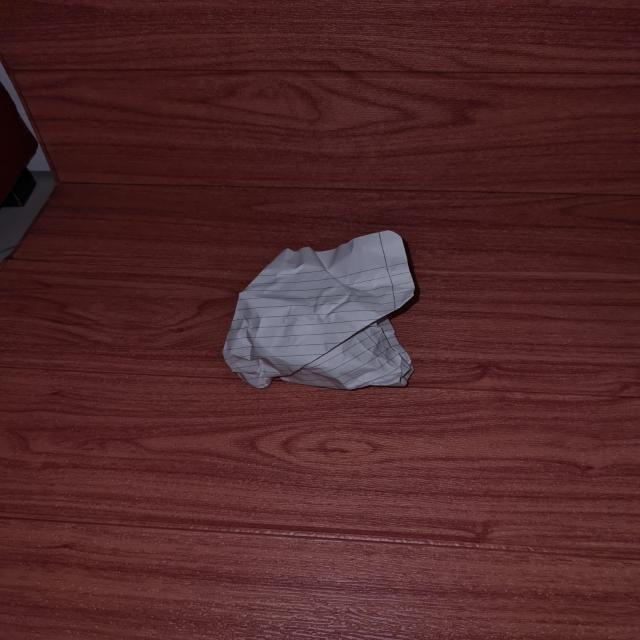Paper: (222, 232, 423, 392)
